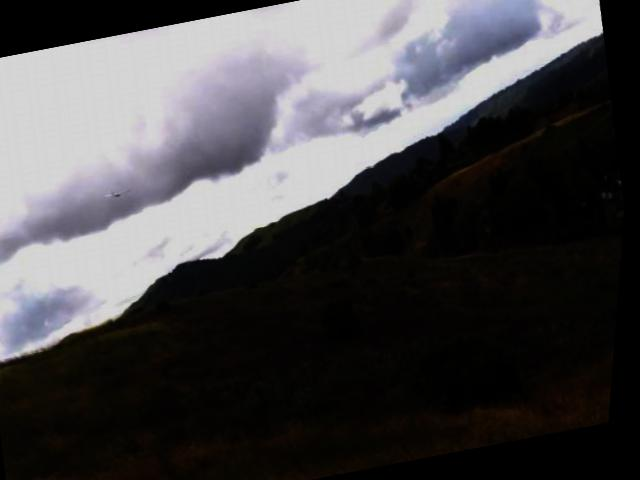iha: (102, 178, 137, 202)
